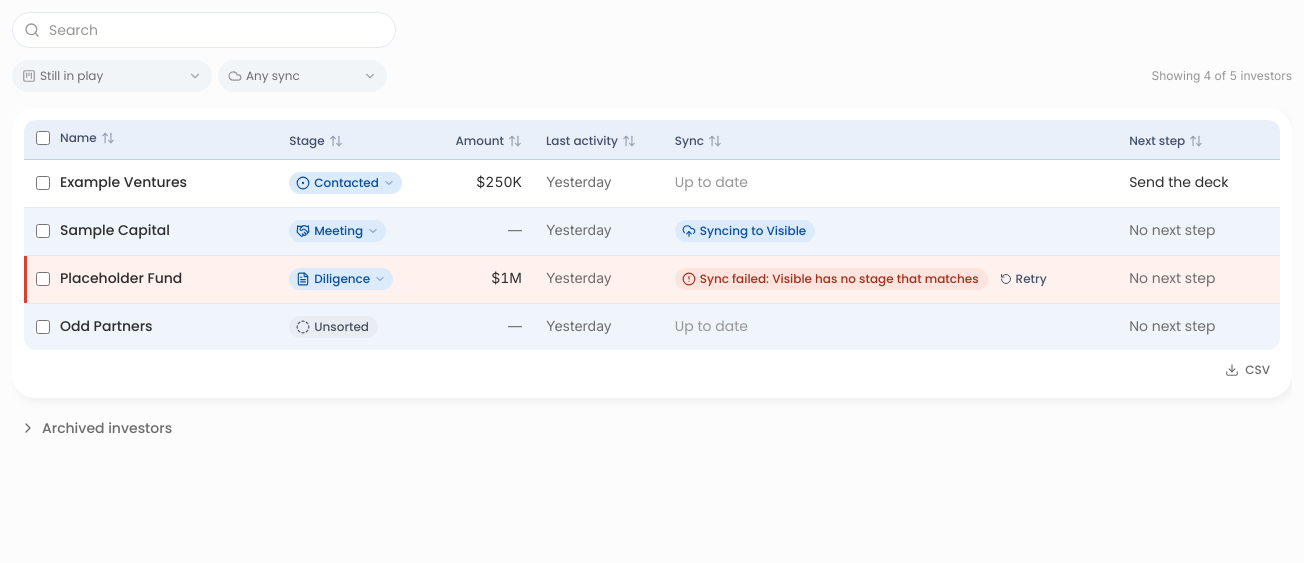
Test: InvestorsTable › bulk: move the selected to a stage through investors.bulk, each result said
This screenshot has width=1304, height=563.
Click the checkbox named "Select Example Ventures" at (43,183), box [36, 176, 50, 190]
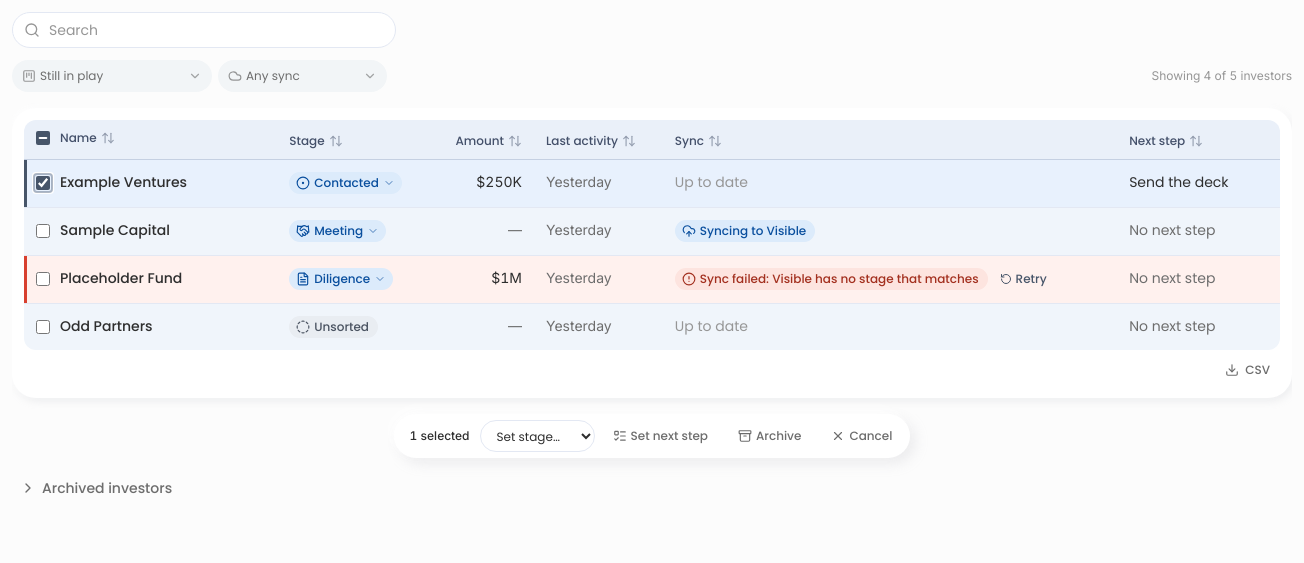
Click the checkbox named "Select Sample Capital" at (43,231), box [36, 224, 50, 238]
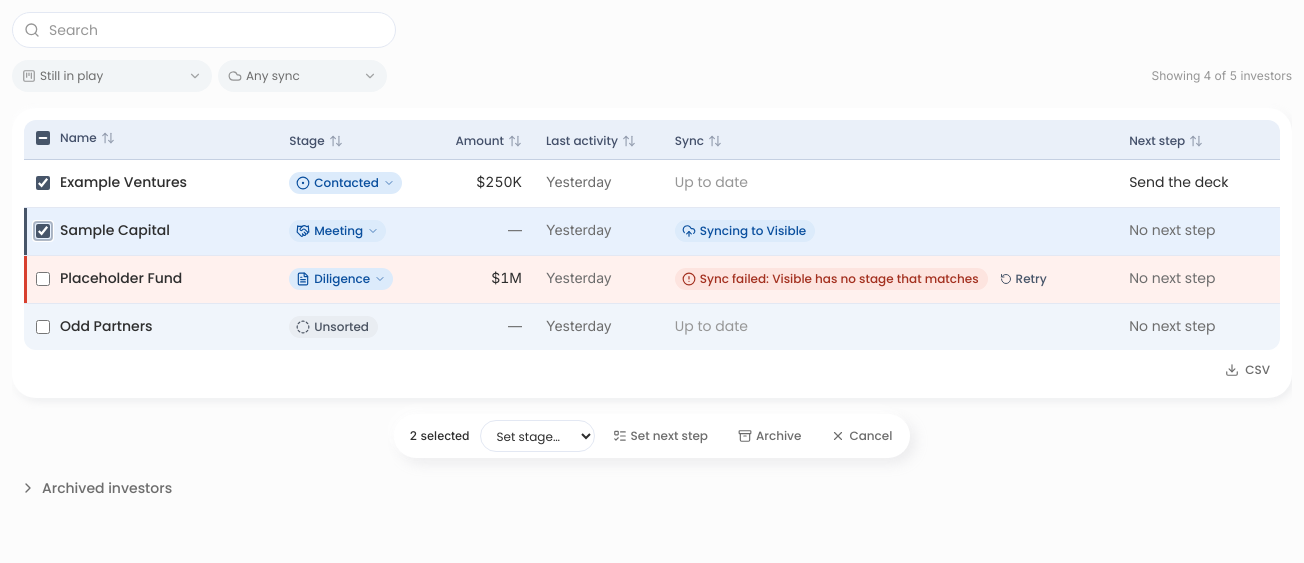
Now the text "2 selected" is shown, box [410, 428, 470, 444]
Select "Diligence" in the dropdown named "Set stage" at (537,436), box [480, 420, 594, 452]
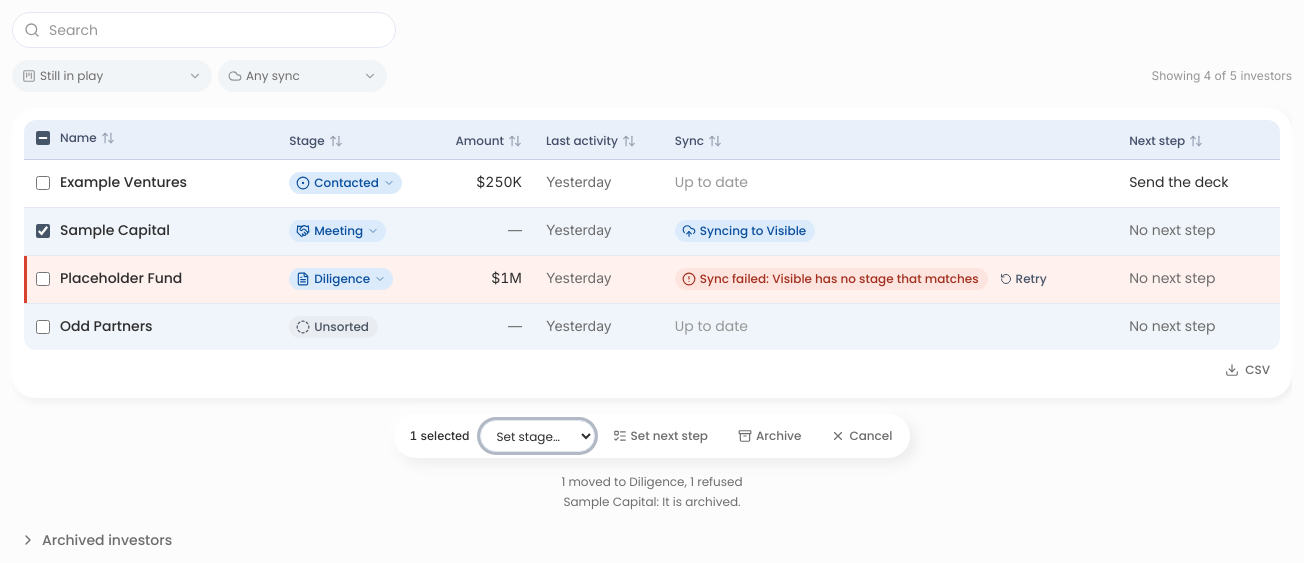
Now the checkbox named "Select Sample Capital" is checked, box [36, 224, 50, 238]
Now the message named "Bulk results" shows "1 moved to Diligence, 1 refused", box [561, 473, 742, 490]
Now the list item "Sample Capital: It is archived." is shown, box [563, 493, 740, 510]
